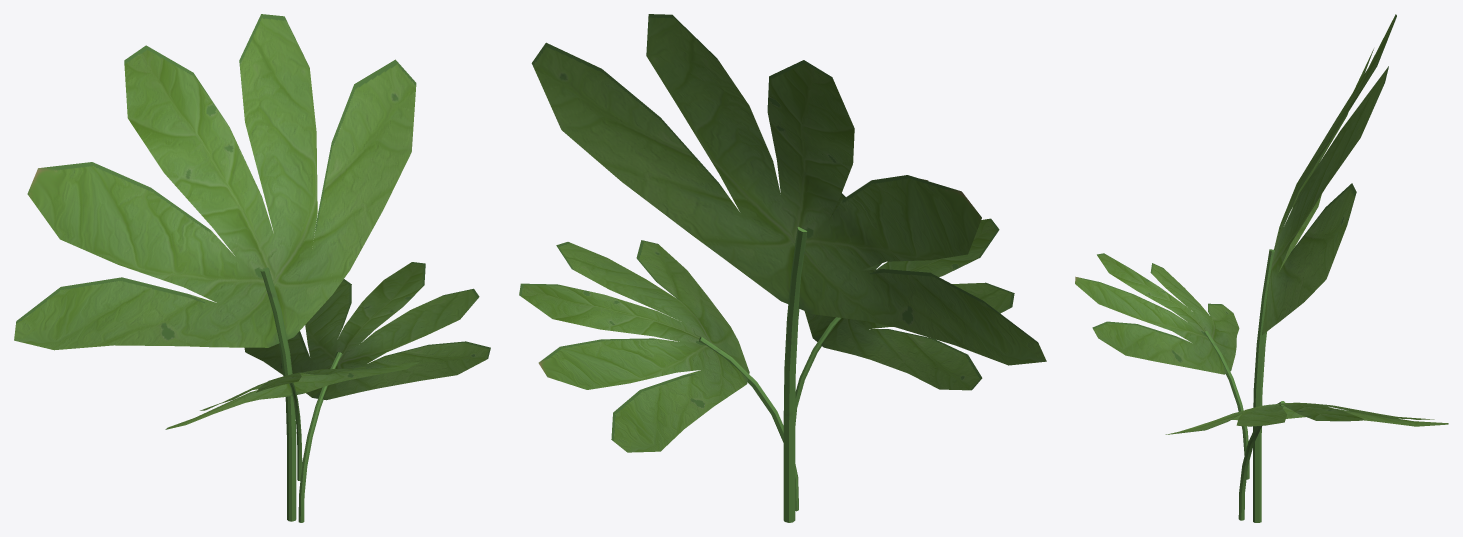
File: leafies.fbx
3 renders of one model, left to right at view 1: azimuth 30°, elevation 25°; view 2: azimuth 150°, elevation 25°; view 3: azimuth 270°, elevation 25°, orthographic. The views are drawn at different scales.
Visible parts, largest first — view 1: fanLeaf; view 2: fanLeaf; view 3: fanLeaf.
Part boxes in pixels (x1=…): fanLeaf: x1=14, y1=14, x2=490, y2=522; fanLeaf: x1=519, y1=14, x2=1046, y2=522; fanLeaf: x1=1075, y1=14, x2=1448, y2=522.
Bounding box in the file's own units: 11.44 × 11.46 × 8.23.
Materials: 1 (1 with a texture image).
